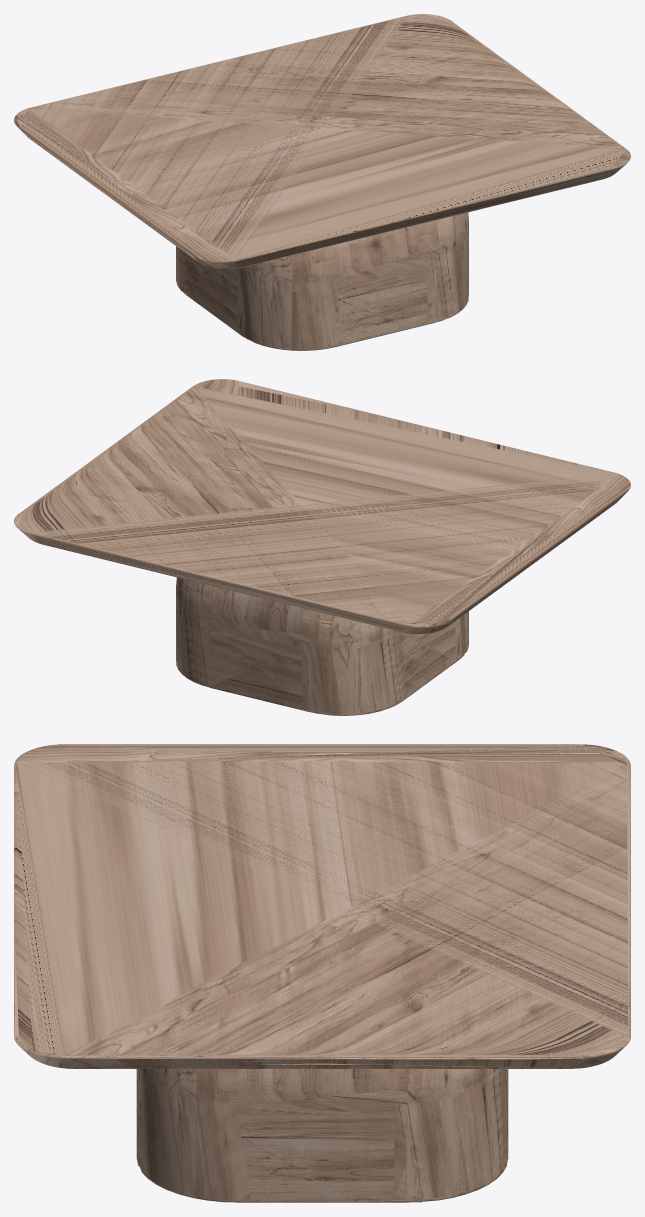
File: table.obj
The picture shows the model from 3 angles, top to bottom: view 1: azimuth 30°, elevation 25°; view 2: azimuth 150°, elevation 25°; view 3: azimuth 270°, elevation 25°; orthographic projection. The views are drawn at different scales.
Parts seen in each view (by area): view 1: Nikari_side_table; view 2: Nikari_side_table; view 3: Nikari_side_table.
Boxes of the visible parts, x1=… form: Nikari_side_table: x1=14, y1=14, x2=630, y2=350; Nikari_side_table: x1=14, y1=379, x2=630, y2=715; Nikari_side_table: x1=14, y1=744, x2=630, y2=1202.
Size of the model in its own units: 59.77 by 20 by 49.8.
1 material, 1 textured.
